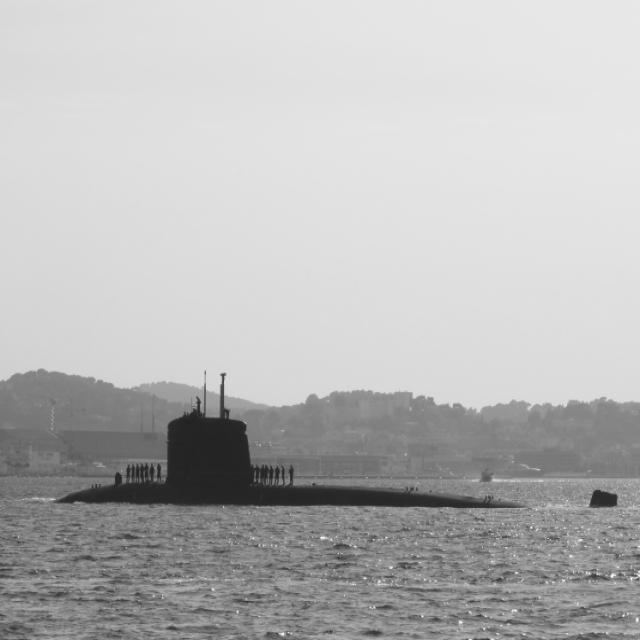submarine: (64, 365, 622, 513)
